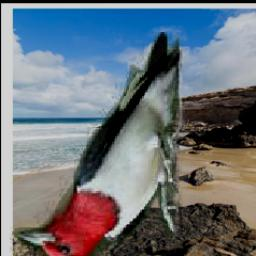Woodpecker: (11, 32, 188, 256)
